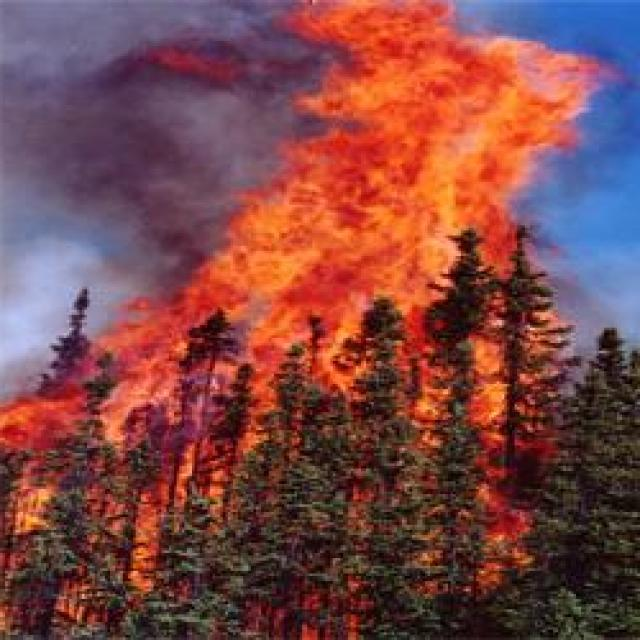fire: (346, 3, 450, 268), (245, 188, 343, 350), (449, 56, 564, 163)
smoke: (0, 4, 257, 154), (0, 120, 228, 238), (1, 203, 58, 389)
